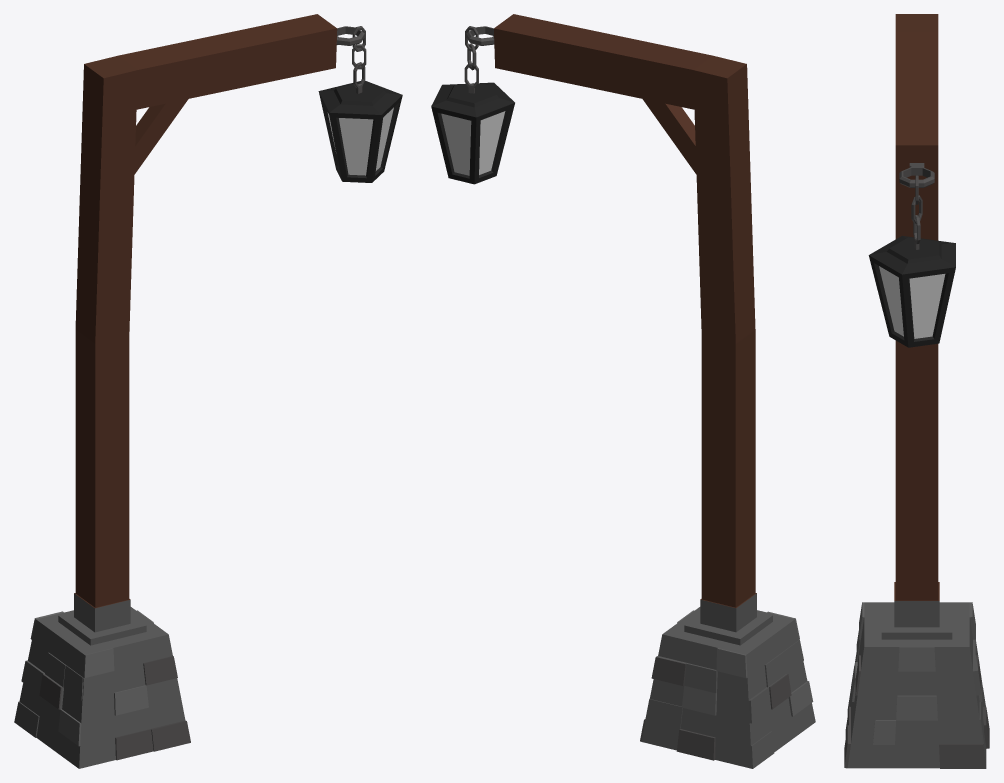
File: Lantern.fbx
3 renders of one model, left to right at view 1: azimuth 30°, elevation 25°; view 2: azimuth 150°, elevation 25°; view 3: azimuth 270°, elevation 25°, orthographic. The views are drawn at different scales.
Visible parts, largest first — view 1: Lantern; view 2: Lantern; view 3: Lantern.
Boxes of the visible parts, left/top/right/bottom form: Lantern: left=14, top=14, right=402, bottom=768; Lantern: left=431, top=14, right=815, bottom=768; Lantern: left=844, top=14, right=989, bottom=768.
Bounding box in the file's own units: 277 × 502 × 91.67.
